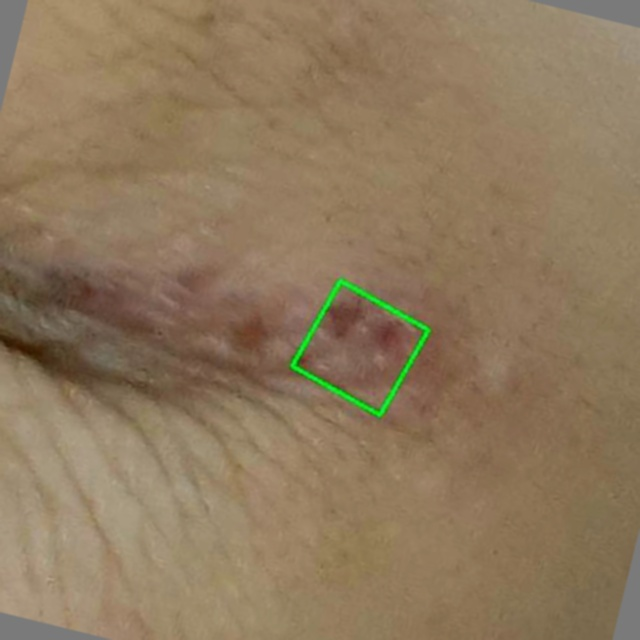Scabies: (291, 281, 427, 416)
